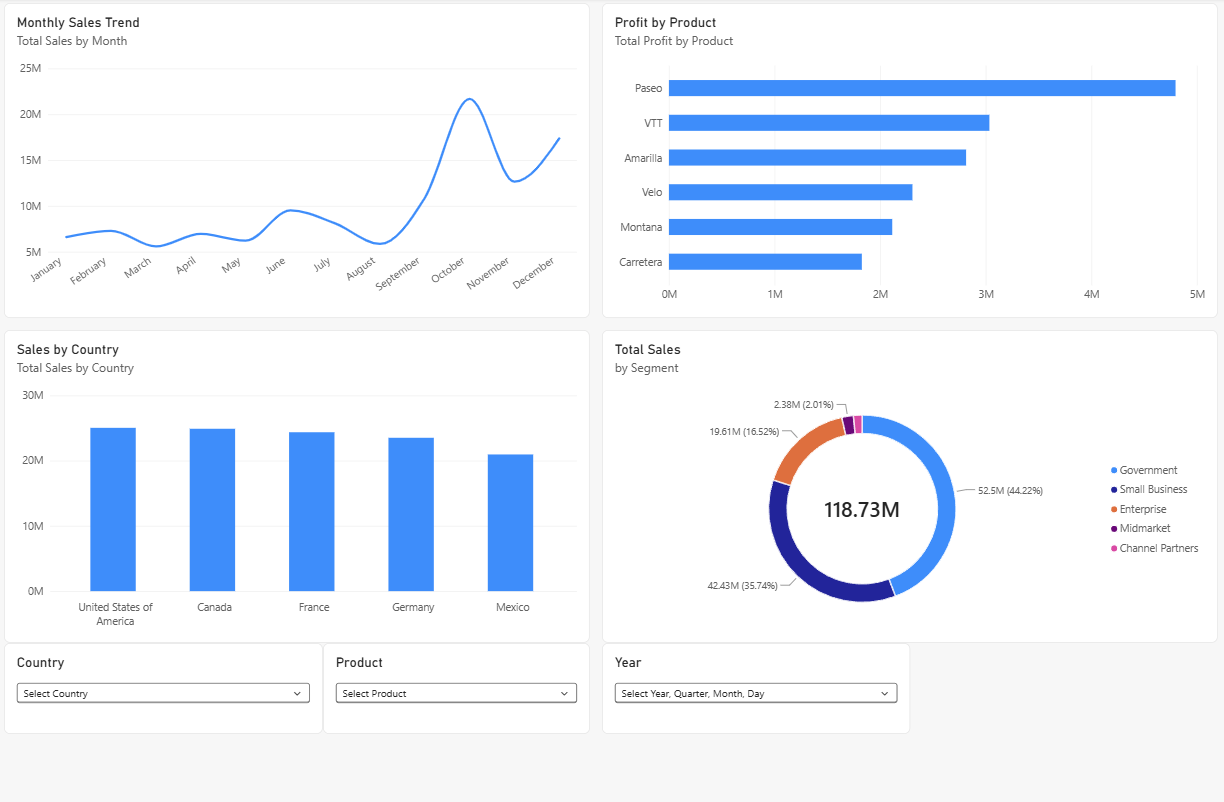

The dashboard page shown, as its layout file describes it:
{"tool":"powerbi","page":{"name":"Page 1","canvas":[1920,1080],"ordinal":0},"visuals":[{"type":"lineChart","title":"Monthly Sales Trend","fields":{"Category":["financials.Date.Variation.Date Hierarchy.Year","financials.Date.Variation.Date Hierarchy.Quarter","financials.Date.Variation.Date Hierarchy.Month","financials.Date.Variation.Date Hierarchy.Day"],"Y":["financials.Total Sales"]},"box":[34.6,6.7,779.4,419],"z":0},{"type":"clusteredBarChart","title":"Profit by Product","fields":{"Category":["financials.Product"],"Y":["financials.Total Profit"]},"box":[830,6.7,819.3,419],"z":1},{"type":"clusteredColumnChart","title":"Sales by Country","fields":{"Category":["financials.Country"],"Y":["financials.Total Sales"]},"box":[34.6,441.6,779.4,416.3],"z":2},{"type":"donutChart","fields":{"Category":["financials.Segment"],"Y":["financials.Total Sales"]},"box":[830,441.6,819.3,416.3],"z":3},{"type":"listSlicer","fields":{"Values":["financials.Country"]},"box":[34.6,857.9,389.7,121],"z":4},{"type":"listSlicer","fields":{"Values":["financials.Product"]},"box":[424.3,857.9,389.7,121],"z":5},{"type":"listSlicer","fields":{"Values":["financials.Date.Variation.Date Hierarchy.Year","financials.Date.Variation.Date Hierarchy.Quarter","financials.Date.Variation.Date Hierarchy.Month","financials.Date.Variation.Date Hierarchy.Day"]},"box":[830,857.9,409.7,121],"z":6}]}

Visuals, with their boxes on the page's 1920x1080 design canvas (x1, y1, x2, y2). These are canvas units, not pixel positions in the 1224x802 screenshot, which may show the page scaled, cropped or inside an application window:
"Monthly Sales Trend" lineChart: x1=35 y1=7 x2=814 y2=426
"Profit by Product" clusteredBarChart: x1=830 y1=7 x2=1649 y2=426
"Sales by Country" clusteredColumnChart: x1=35 y1=442 x2=814 y2=858
donutChart - financials.Segment x financials.Total Sales: x1=830 y1=442 x2=1649 y2=858
listSlicer - financials.Country: x1=35 y1=858 x2=424 y2=979
listSlicer - financials.Product: x1=424 y1=858 x2=814 y2=979
listSlicer - financials.Date.Variation.Date Hierarchy.Year x financials.Date.Variation.Date Hierarchy.Quarter: x1=830 y1=858 x2=1240 y2=979
